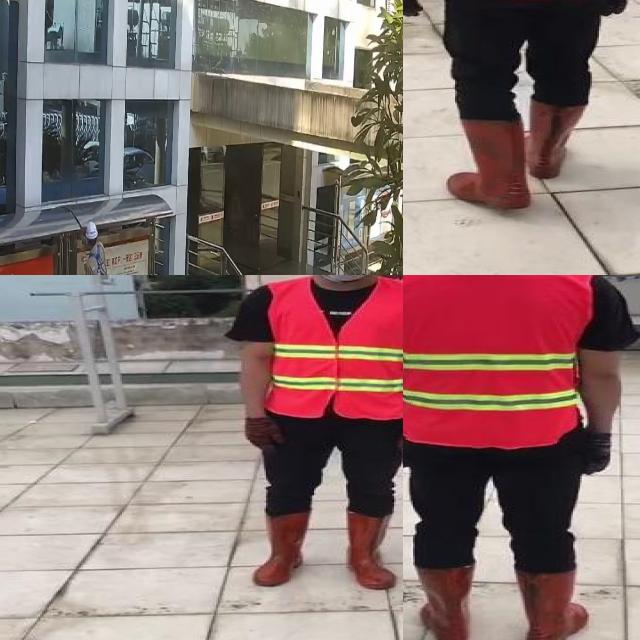Harness: (88, 246, 110, 275)
boots: (446, 117, 528, 209), (514, 568, 590, 640), (526, 96, 587, 179), (343, 510, 401, 591), (413, 565, 475, 640), (252, 511, 312, 587)
hand_glove: (241, 416, 289, 455), (586, 430, 610, 474), (403, 0, 435, 16), (602, 0, 632, 17)
head_helmet: (403, 0, 640, 210)
person: (403, 275, 638, 640), (220, 275, 403, 595)
vest: (403, 275, 592, 448), (264, 277, 403, 420)
